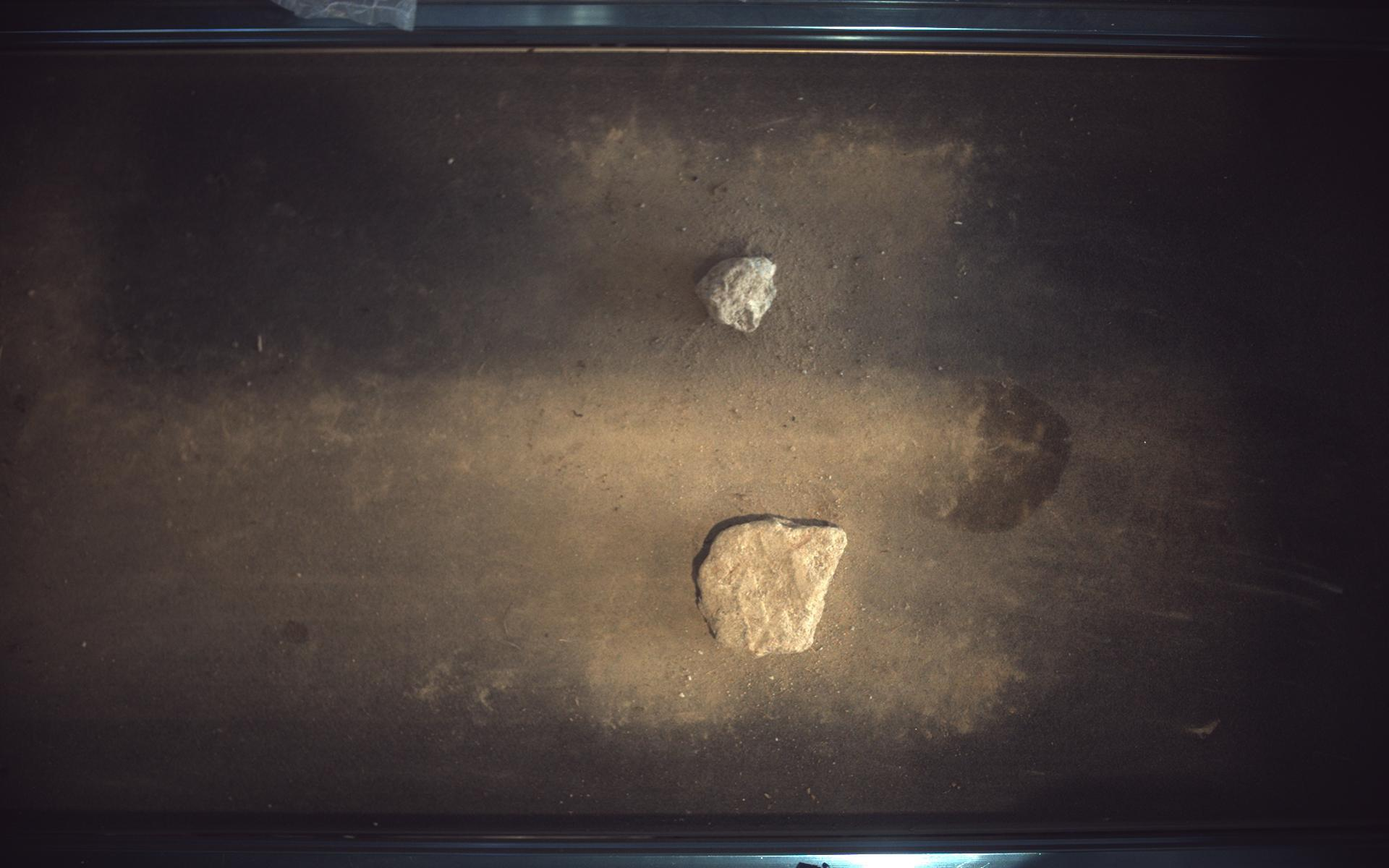stone: (699, 518, 849, 657), (697, 256, 777, 332)
